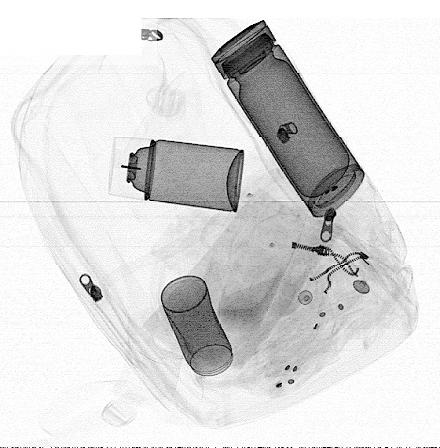Sprayer: (106, 135, 247, 214)
